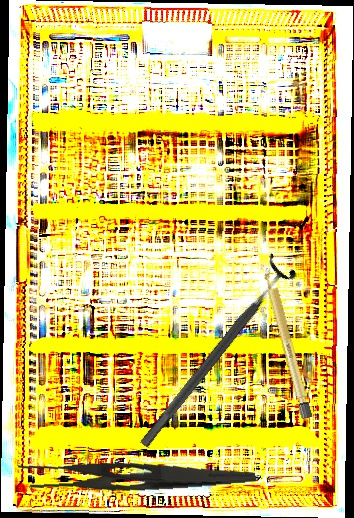Dressing Forceps: (17, 444, 257, 501)
Fixation Ring: (129, 252, 299, 456)
Scalpel Handle: (261, 266, 314, 420)
